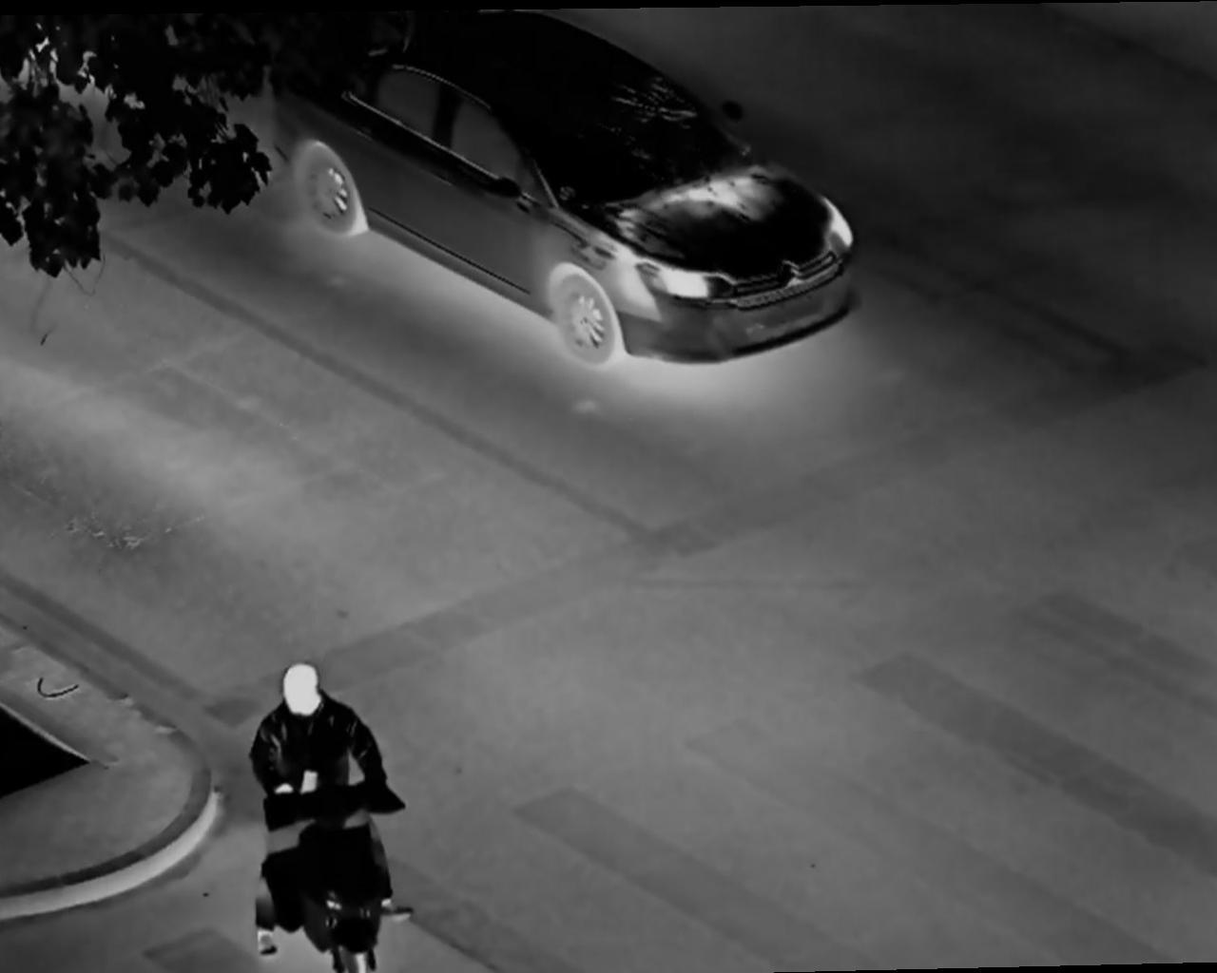person: (242, 651, 382, 901)
